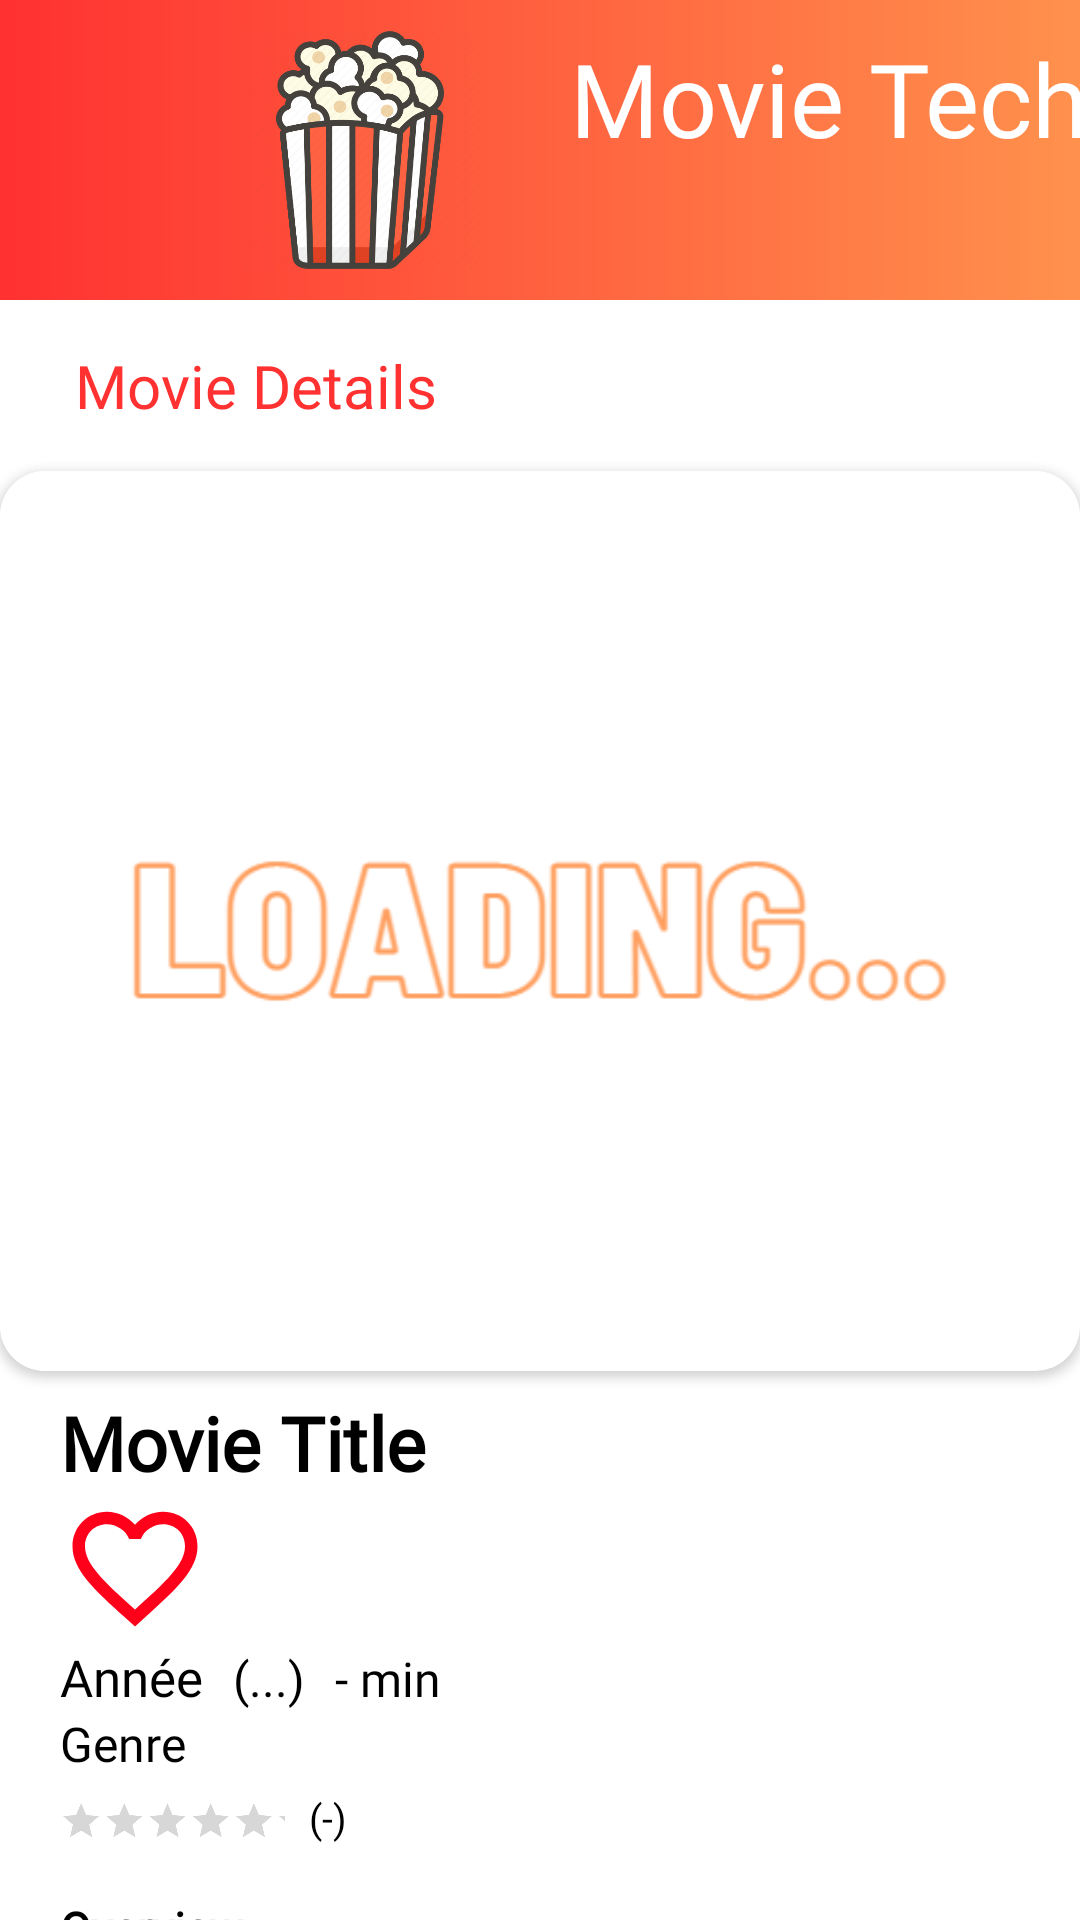

Icon bounding boxes for this 1080*1920 phone screenshot, format (x1, y1, x2, y2):
favorite border: (72, 1511, 198, 1627)
popcorn: (276, 31, 444, 269)
